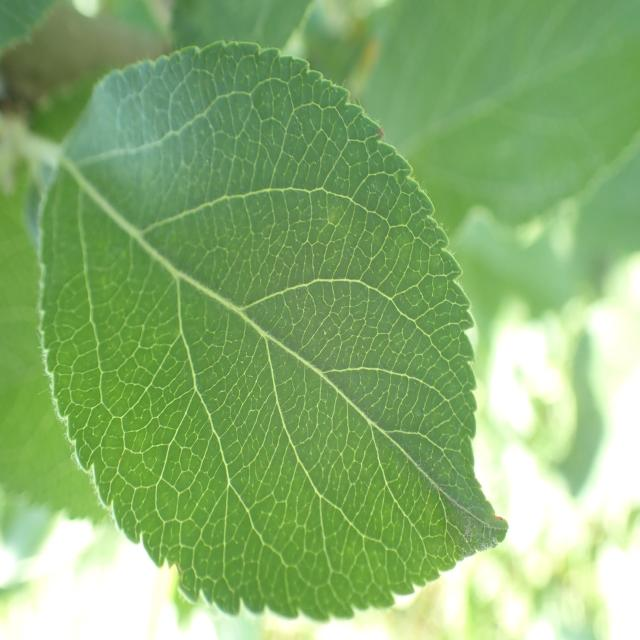healthy: (36, 39, 511, 623)
